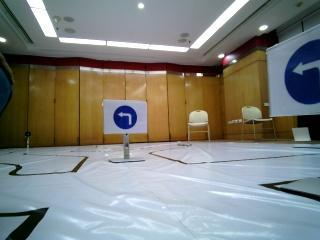left: (272, 48, 320, 122), (106, 98, 147, 133)
